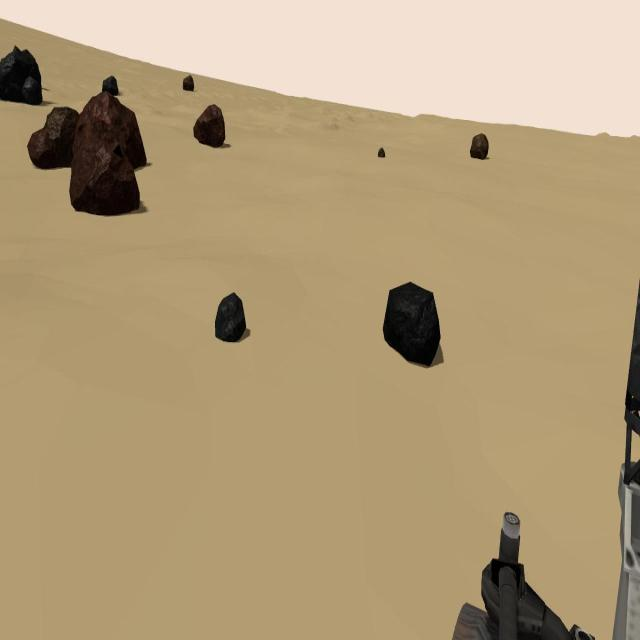rock: (73, 92, 146, 171), (70, 142, 140, 214), (383, 280, 441, 365), (0, 44, 43, 105), (44, 107, 80, 166), (216, 293, 247, 341), (193, 104, 226, 147), (27, 130, 57, 168), (471, 133, 488, 159), (102, 74, 118, 97), (183, 73, 194, 91), (378, 146, 385, 157)
